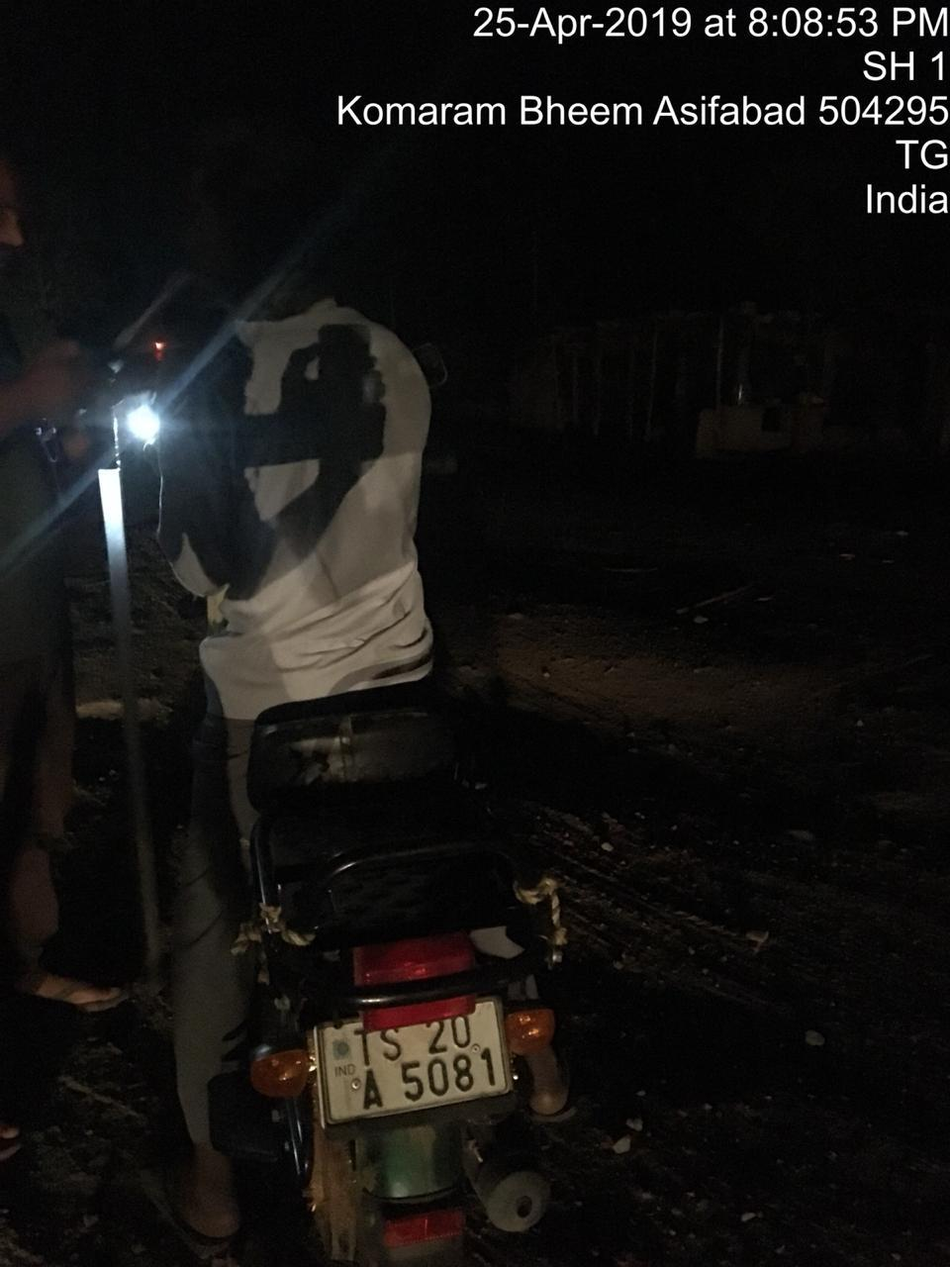plate: (272, 973, 576, 1134)
